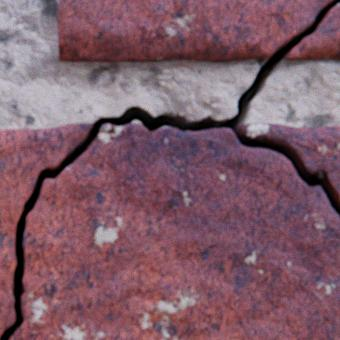broken_brick: (9, 124, 339, 339), (0, 123, 91, 334), (58, 0, 333, 62), (236, 124, 339, 208), (283, 5, 339, 60)
crack: (0, 0, 339, 339)
